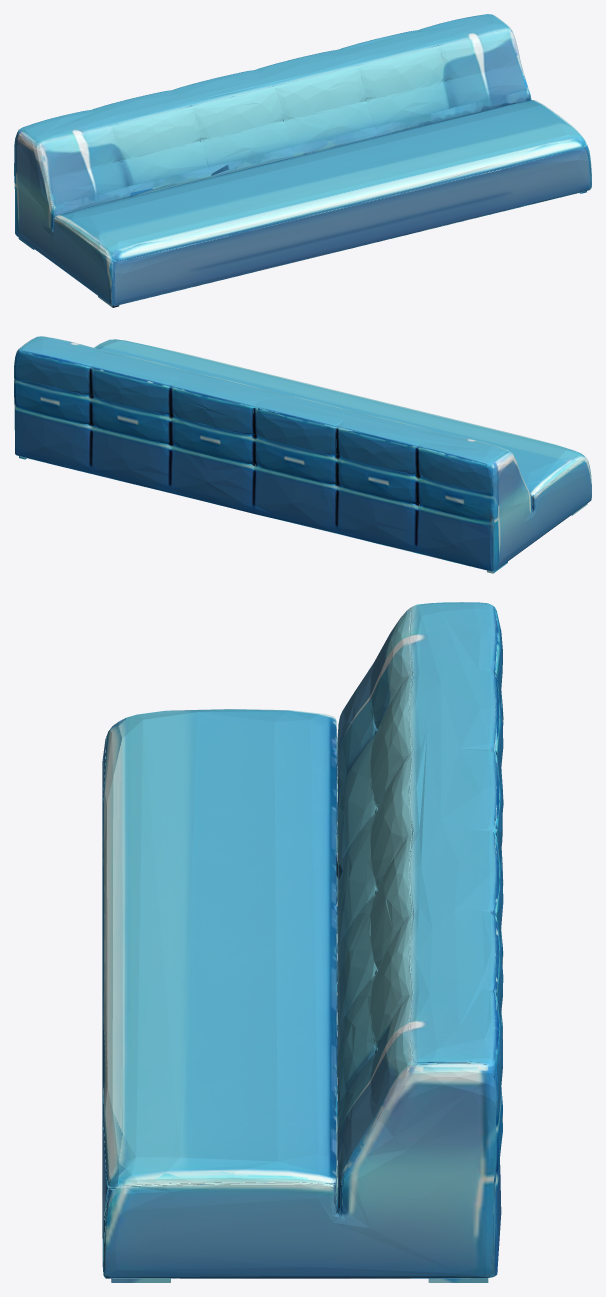
File: edited_mesh.glb
3 renders of one model, top to bottom at view 1: azimuth 30°, elevation 25°; view 2: azimuth 150°, elevation 25°; view 3: azimuth 270°, elevation 25°, orthographic. The views are drawn at different scales.
Parts seen in each view (by area): view 1: solid_001_wire; view 2: solid_001_wire; view 3: solid_001_wire.
Boxes of the visible parts, bbox=[...] form: solid_001_wire: bbox=[14, 14, 591, 307]; solid_001_wire: bbox=[14, 336, 591, 573]; solid_001_wire: bbox=[102, 602, 503, 1282].
Bounding box in the file's own units: 2 × 0.4446 × 0.7213.
Materials: 1 (1 with a texture image).
